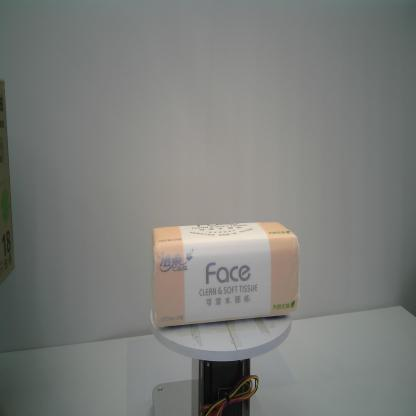Tissue: (150, 221, 301, 328)
